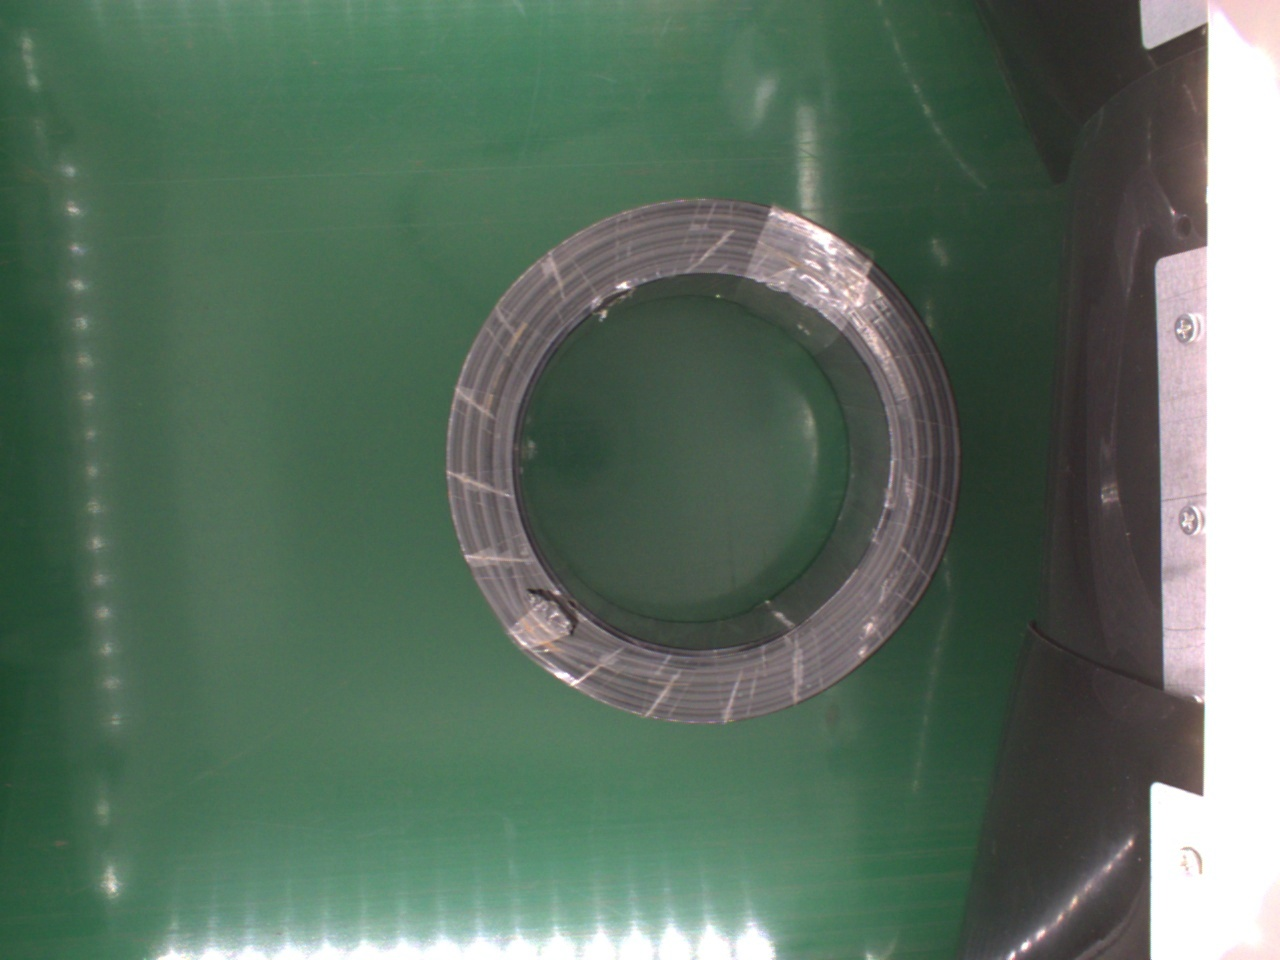black: (446, 198, 956, 725)
